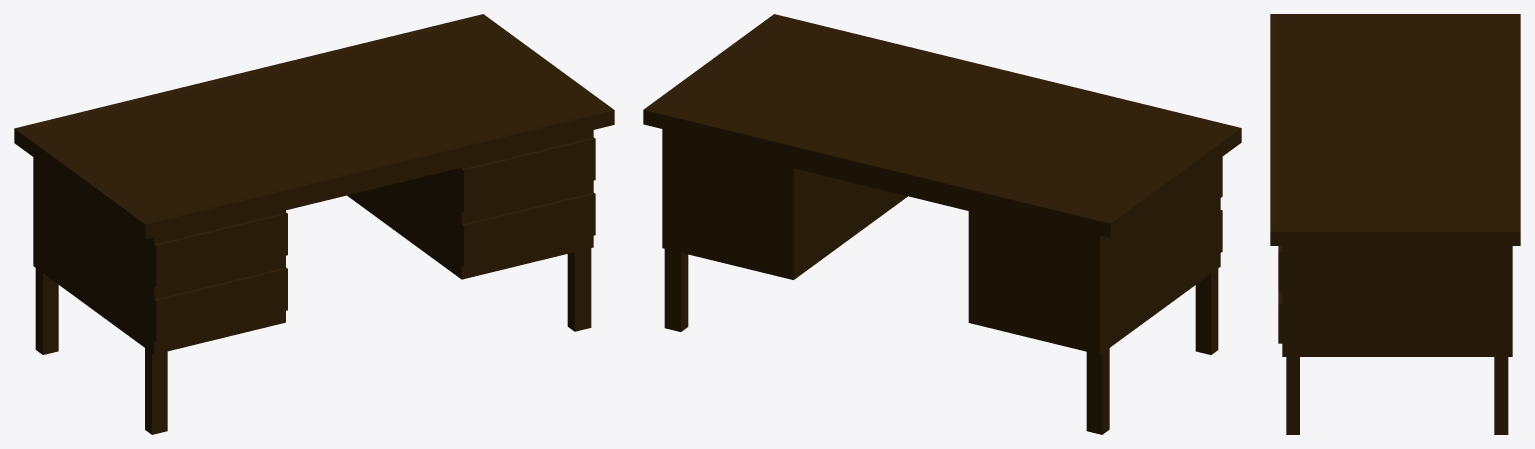
The model's file is Desk.fbx.
The picture shows the model from 3 angles, left to right: view 1: azimuth 30°, elevation 25°; view 2: azimuth 150°, elevation 25°; view 3: azimuth 270°, elevation 25°; orthographic projection. The views are drawn at different scales.
Visible parts, largest first — view 1: Box001; view 2: Box001; view 3: Box001.
Boxes of the visible parts, x1,y1,x2,y2 form: Box001: (14,14,614,434); Box001: (643,14,1241,434); Box001: (1270,14,1520,434).
Size of the model in its own units: 47.73 by 21.42 by 23.15.
